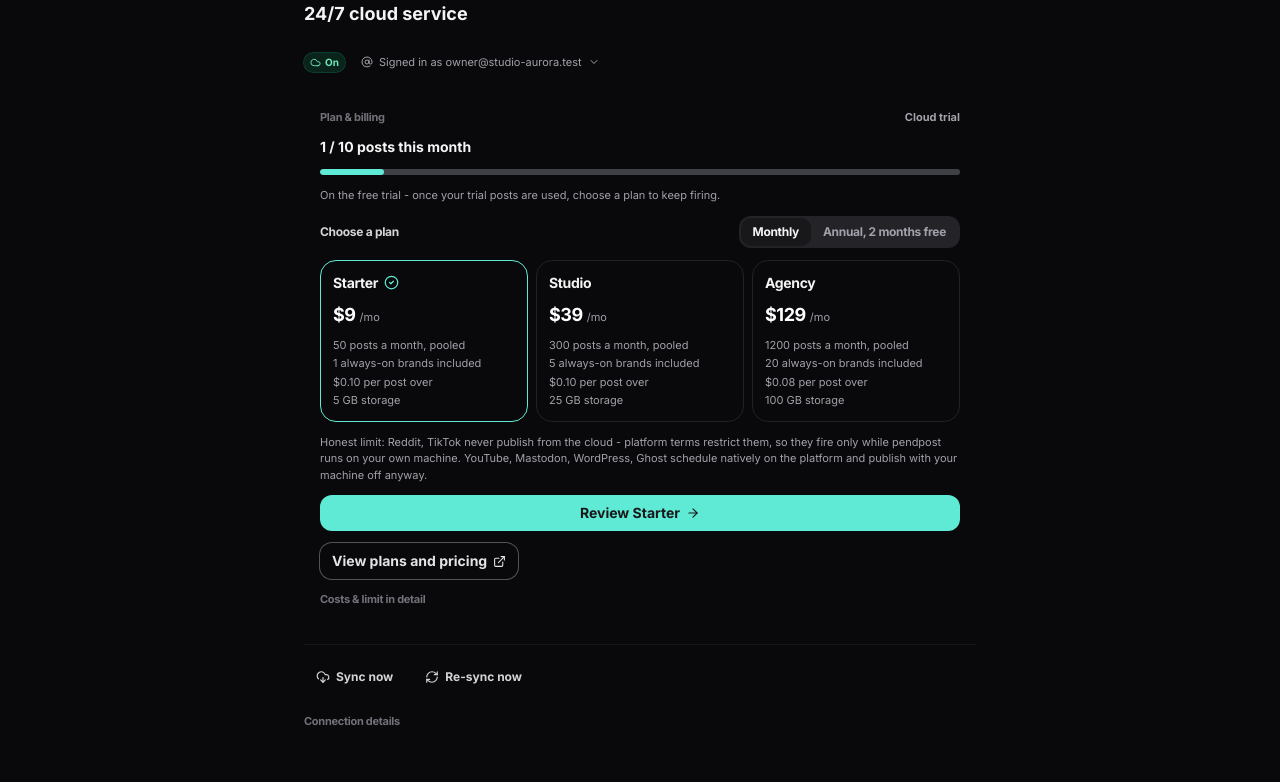
Scenario: Cloud › CONNECTED: eject renders the re-auth checklist for vaulted platforms only
This screenshot has width=1280, height=782.
Click the button with aria-label "account menu for". click: (480, 62)
box: [355,52,606,72]
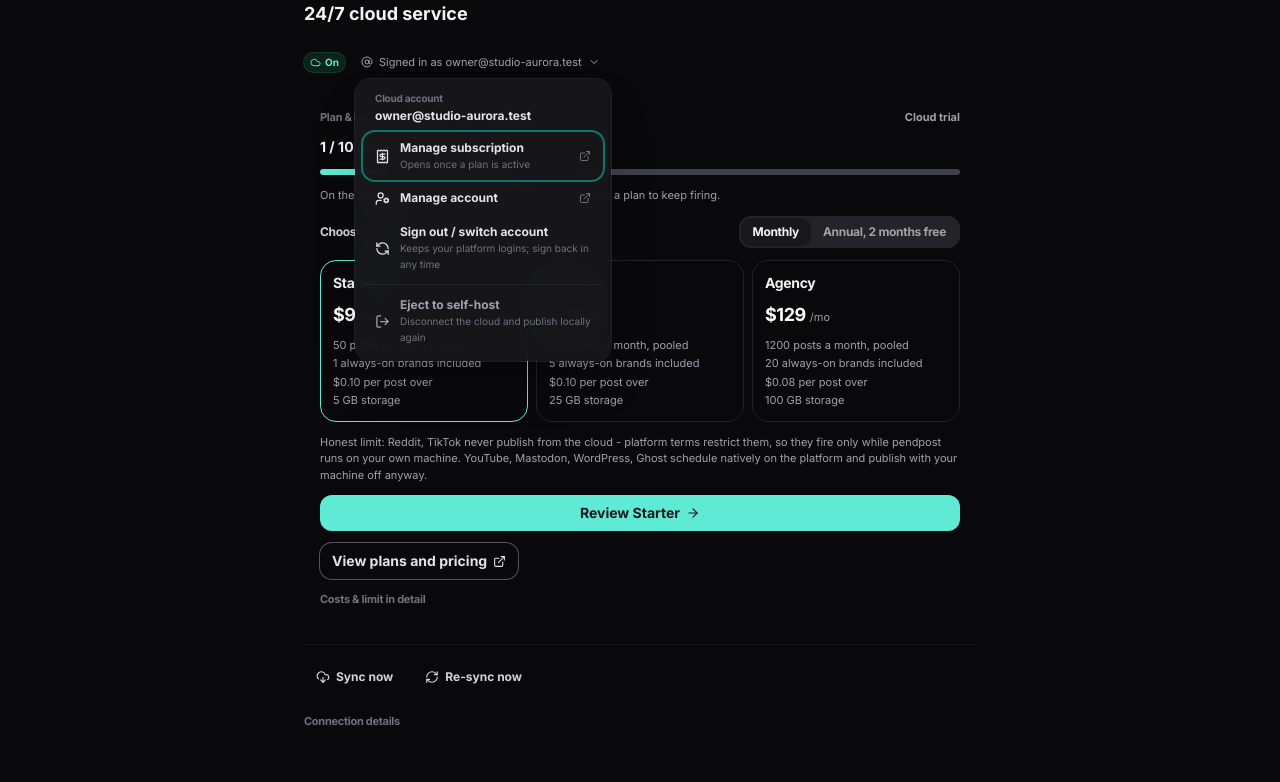
Click the button "Eject to self-host". click: (483, 321)
box: [363,289,603,353]
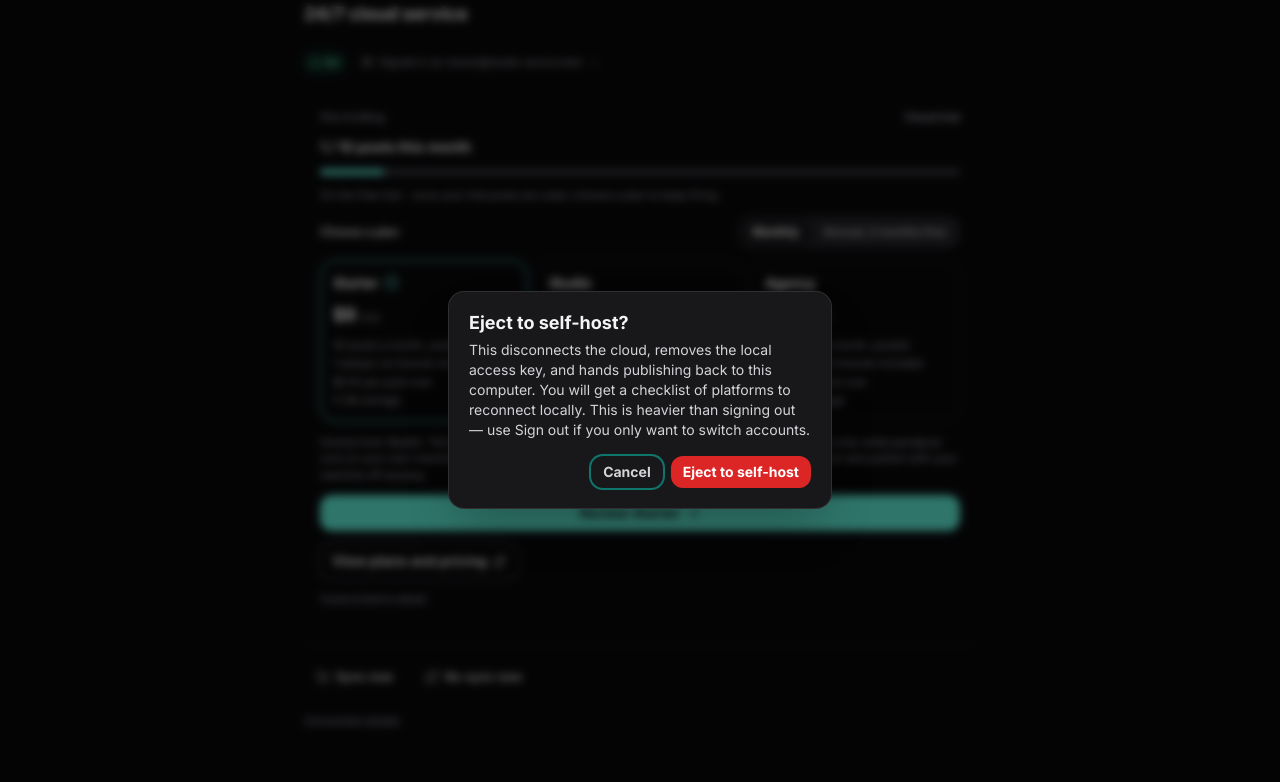
Expected: the heading "Eject to self-host?" is shown, [469,312,629,333]
Click the button "Eject to self-host". click: (741, 472)
box: [671,456,811,488]
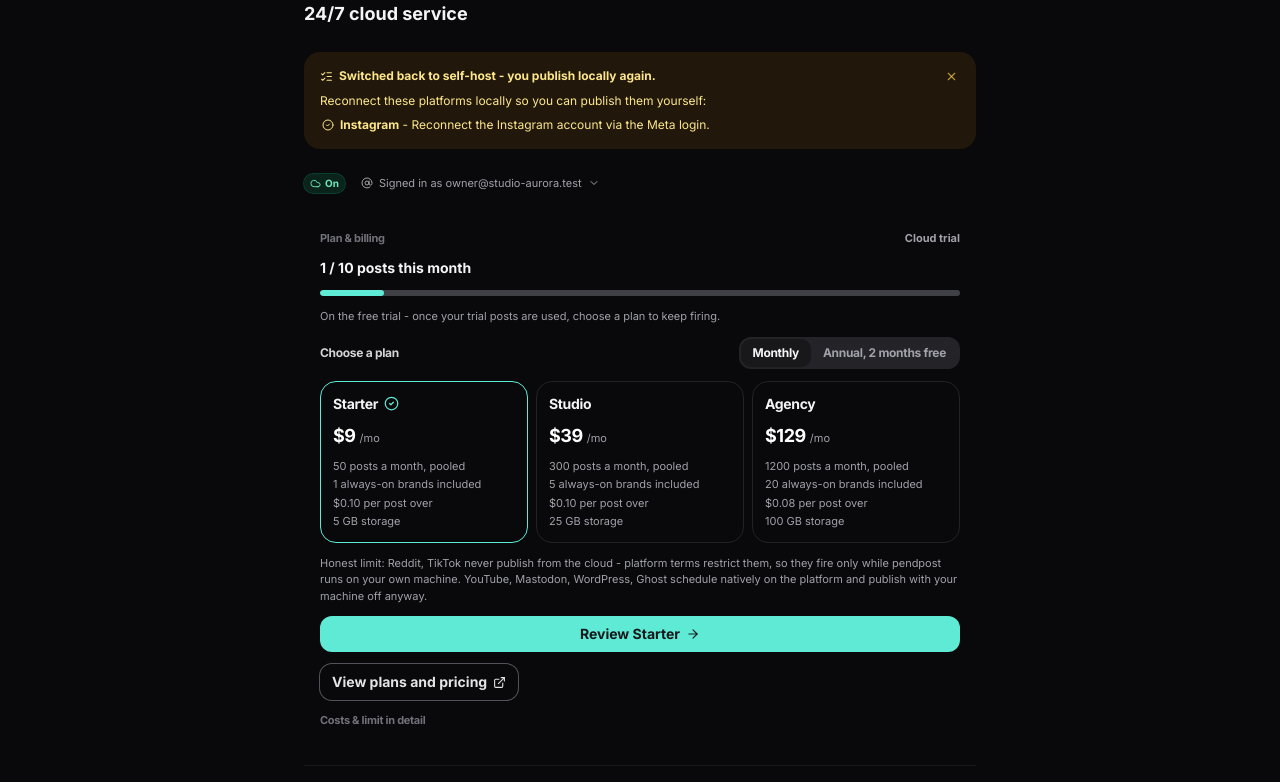
Expected: the text "Reconnect the Instagram account" is shown, [412,117,710,132]
